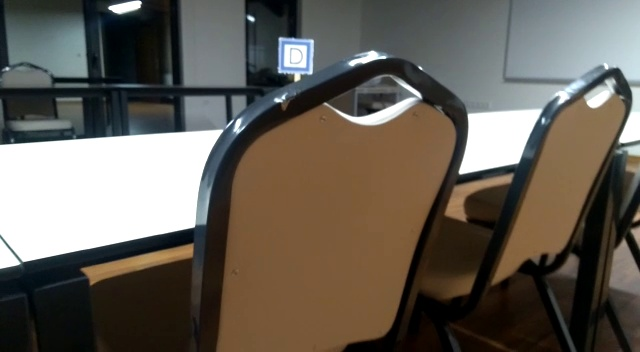durak: (277, 37, 314, 75)
